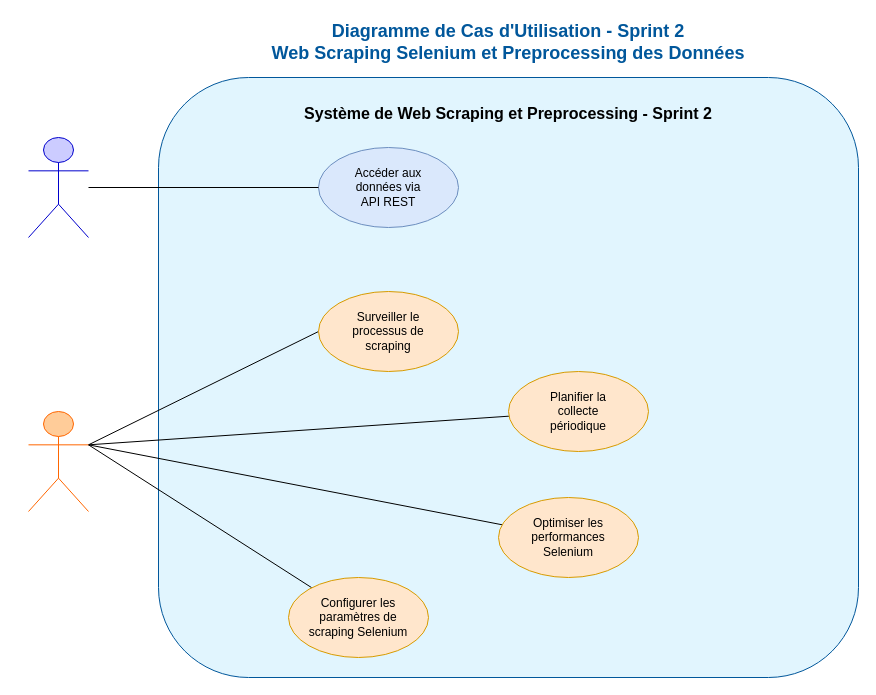
Image size: 876x695. Some labels were removed from this diagram. The shapes that lost their labels are listed below. From the top down, each one's centre as x and y in pixels, then its label:
pixel 58 187: Consommateur API
pixel 58 461: Administrateur Système
